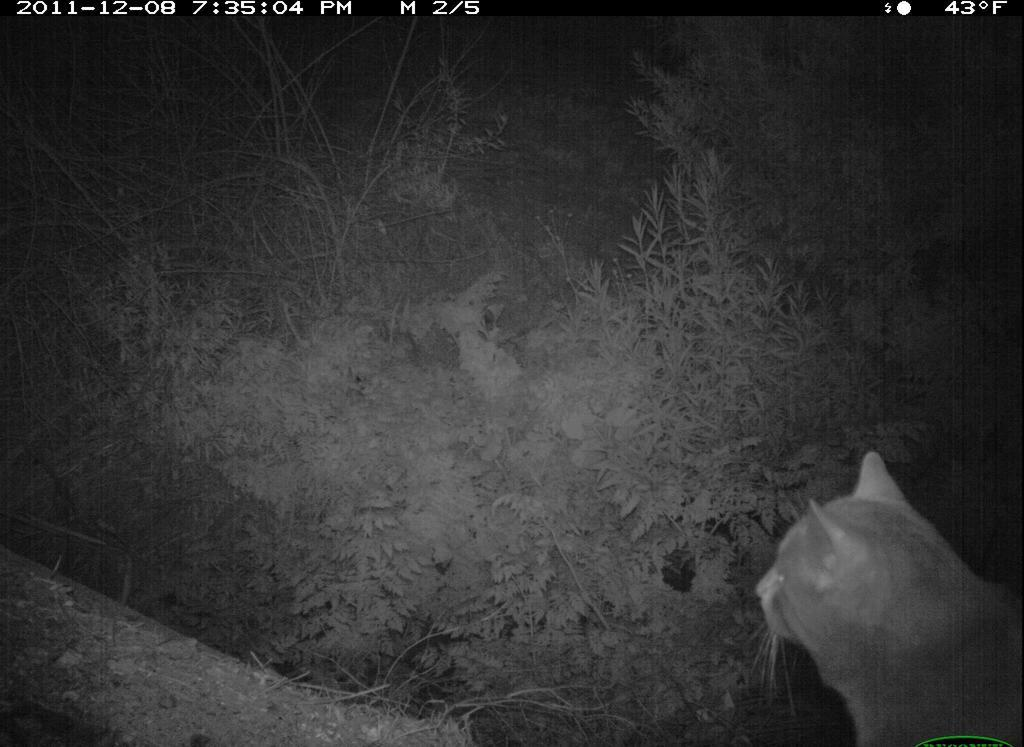cat: (752, 449, 1023, 747)
